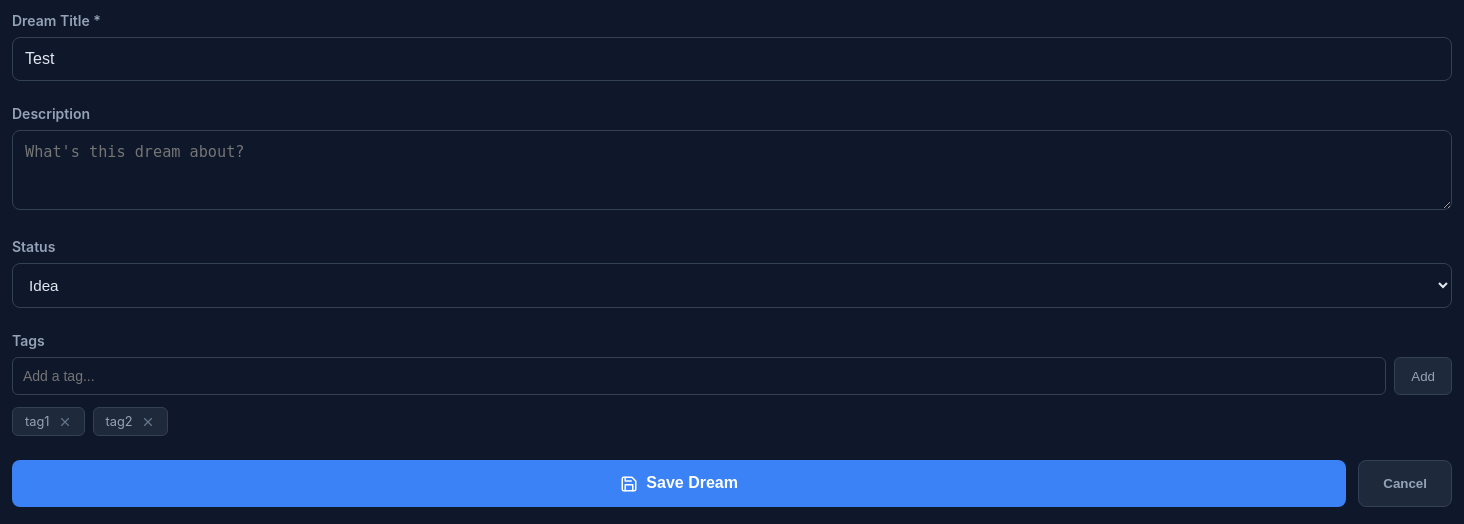
Test case: DreamForm › allows user to remove tags
This screenshot has width=1464, height=524.
Expected: the text "tag1" is shown, [12,407,84,436]
Click the X icon to remove the tag
Step 1. Click the icon next to "tag1" → x=64, y=422, box [58,414,72,428]
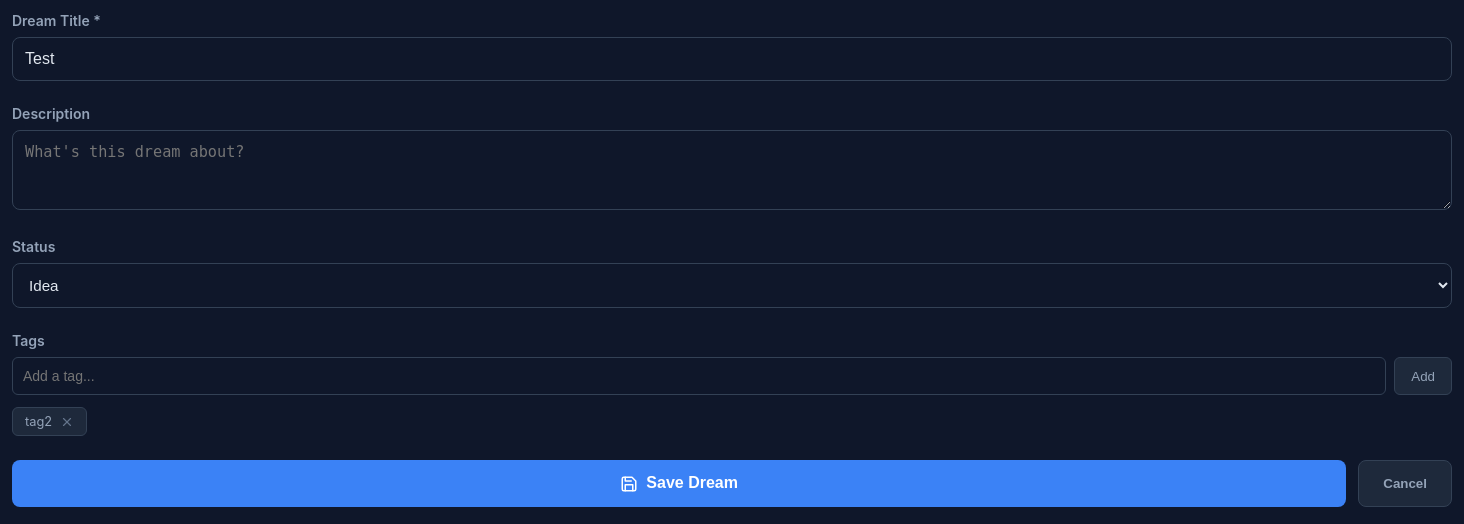
Expected: the text "tag2" is shown, [12,407,87,436]
Result: the text "tag1" is gone
